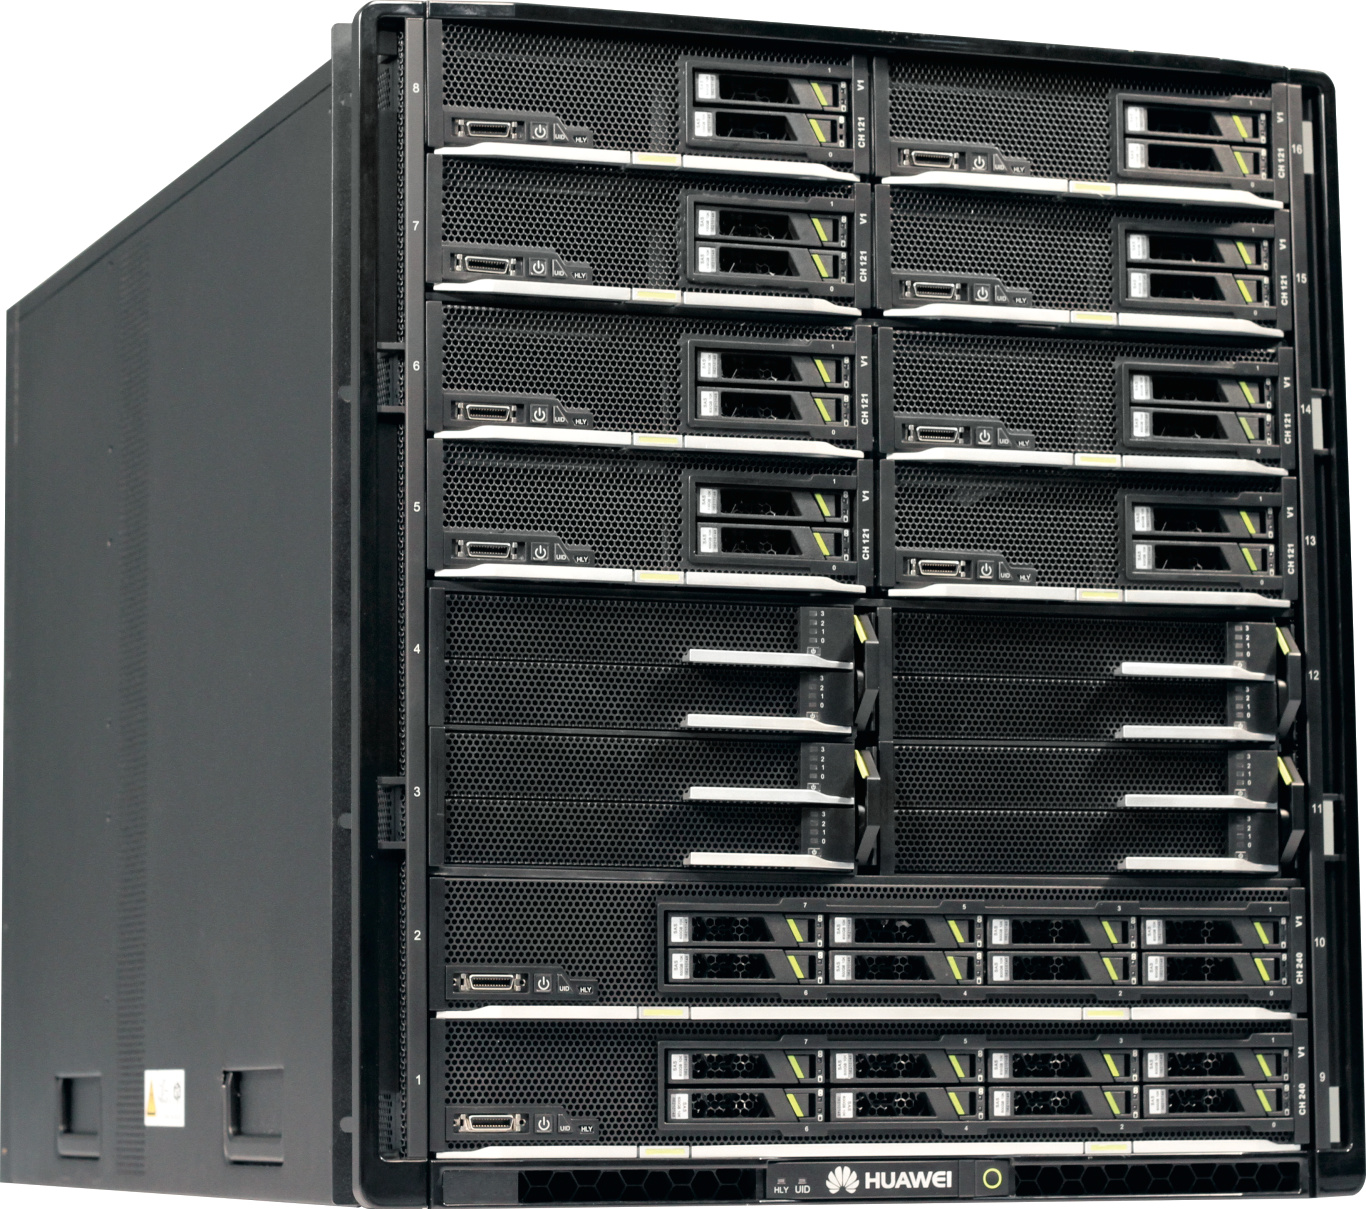ibm-server: (310, 4, 1365, 1203), (409, 266, 875, 455), (871, 440, 1307, 603)
